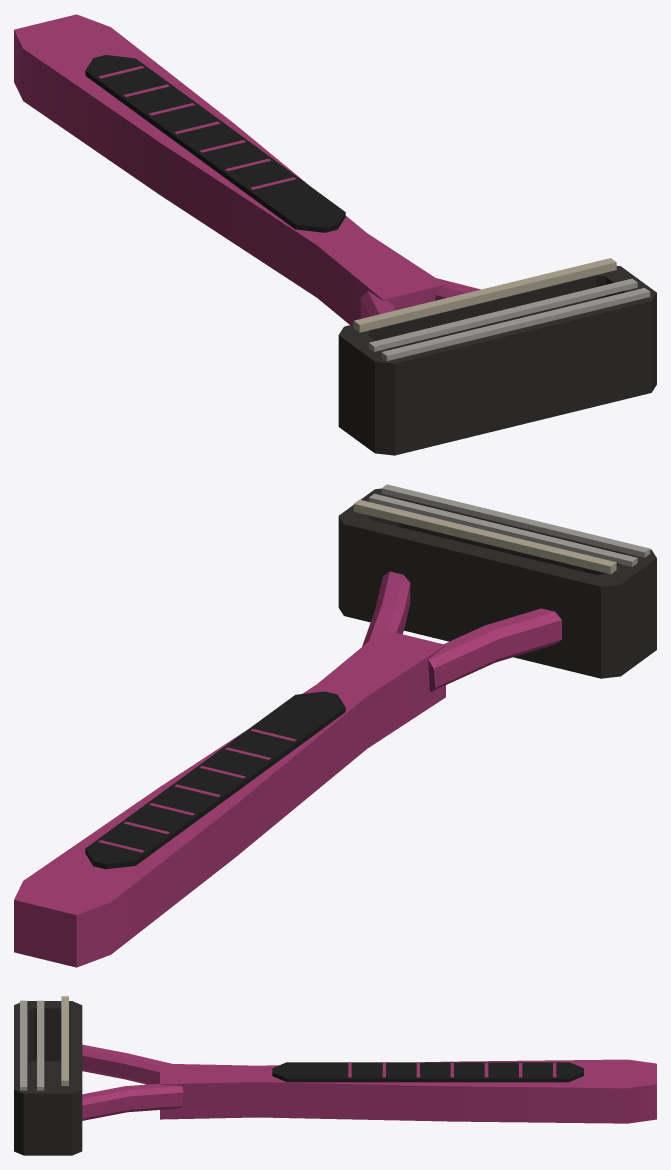
Rendered from razor-253c1d5f2c8d.glb.
The picture shows the model from 3 angles, top to bottom: view 1: azimuth 30°, elevation 25°; view 2: azimuth 150°, elevation 25°; view 3: azimuth 270°, elevation 25°; orthographic projection. The views are drawn at different scales.
Parts seen in each view (by area): view 1: plastic-dark, accent-magenta, rubber, brushed, plastic-light; view 2: accent-magenta, plastic-dark, rubber, brushed, plastic-light; view 3: accent-magenta, plastic-dark, rubber, brushed, plastic-light.
Part boxes in pixels (x1,y1,x2,y2): plastic-dark: (338, 265, 656, 455); accent-magenta: (14, 14, 480, 324); rubber: (85, 55, 345, 232); brushed: (369, 278, 650, 360); plastic-light: (353, 258, 616, 332); accent-magenta: (14, 571, 561, 967); plastic-dark: (338, 488, 656, 678); rubber: (85, 691, 345, 869); brushed: (369, 484, 650, 566); plastic-light: (353, 499, 616, 574); accent-magenta: (82, 1044, 656, 1123); plastic-dark: (14, 1001, 82, 1155); rubber: (272, 1062, 583, 1082); brushed: (20, 1000, 44, 1090); plastic-light: (61, 996, 68, 1085).
Size of the model in its own units: 0.045 by 0.016 by 0.132.
